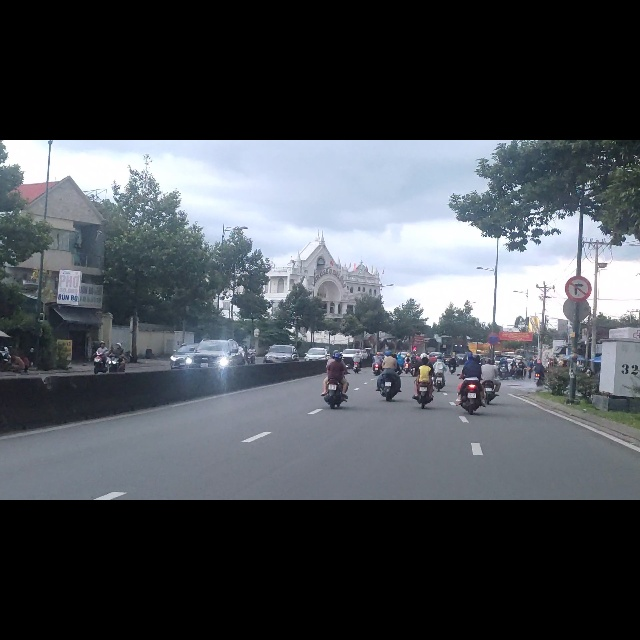bien_cam: (564, 240, 593, 286), (487, 343, 499, 365)
